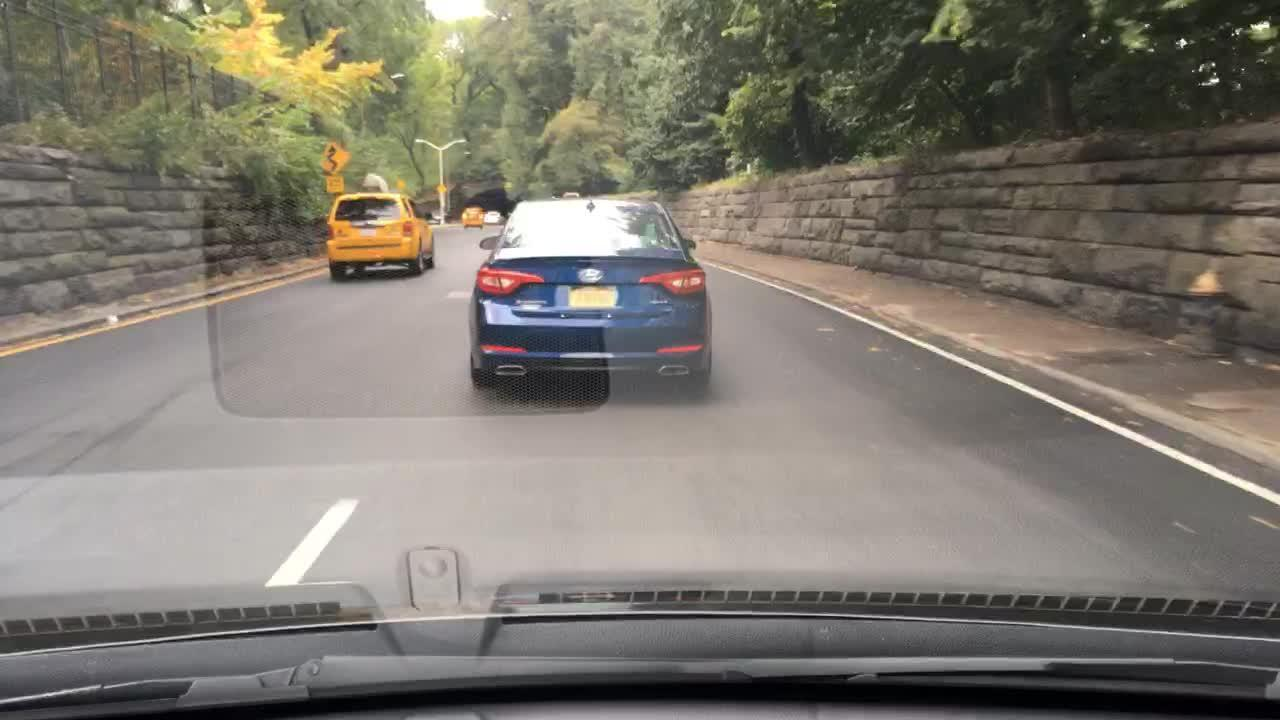Hyundai: (574, 264, 605, 287)
